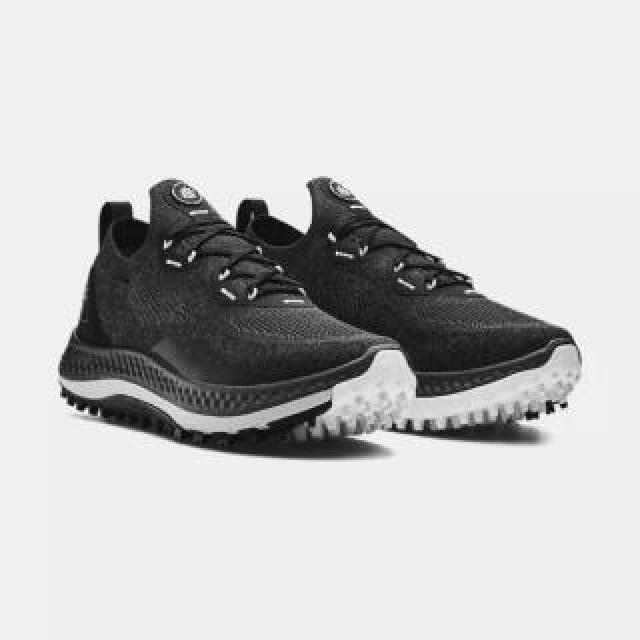shoe: (61, 178, 417, 450), (205, 176, 583, 432)
